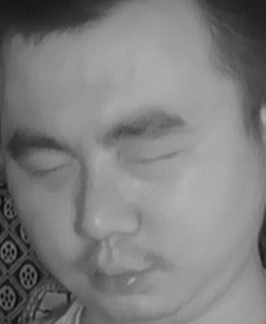blink: (125, 141, 182, 179), (27, 153, 74, 190)
mouth: (79, 248, 164, 303)
